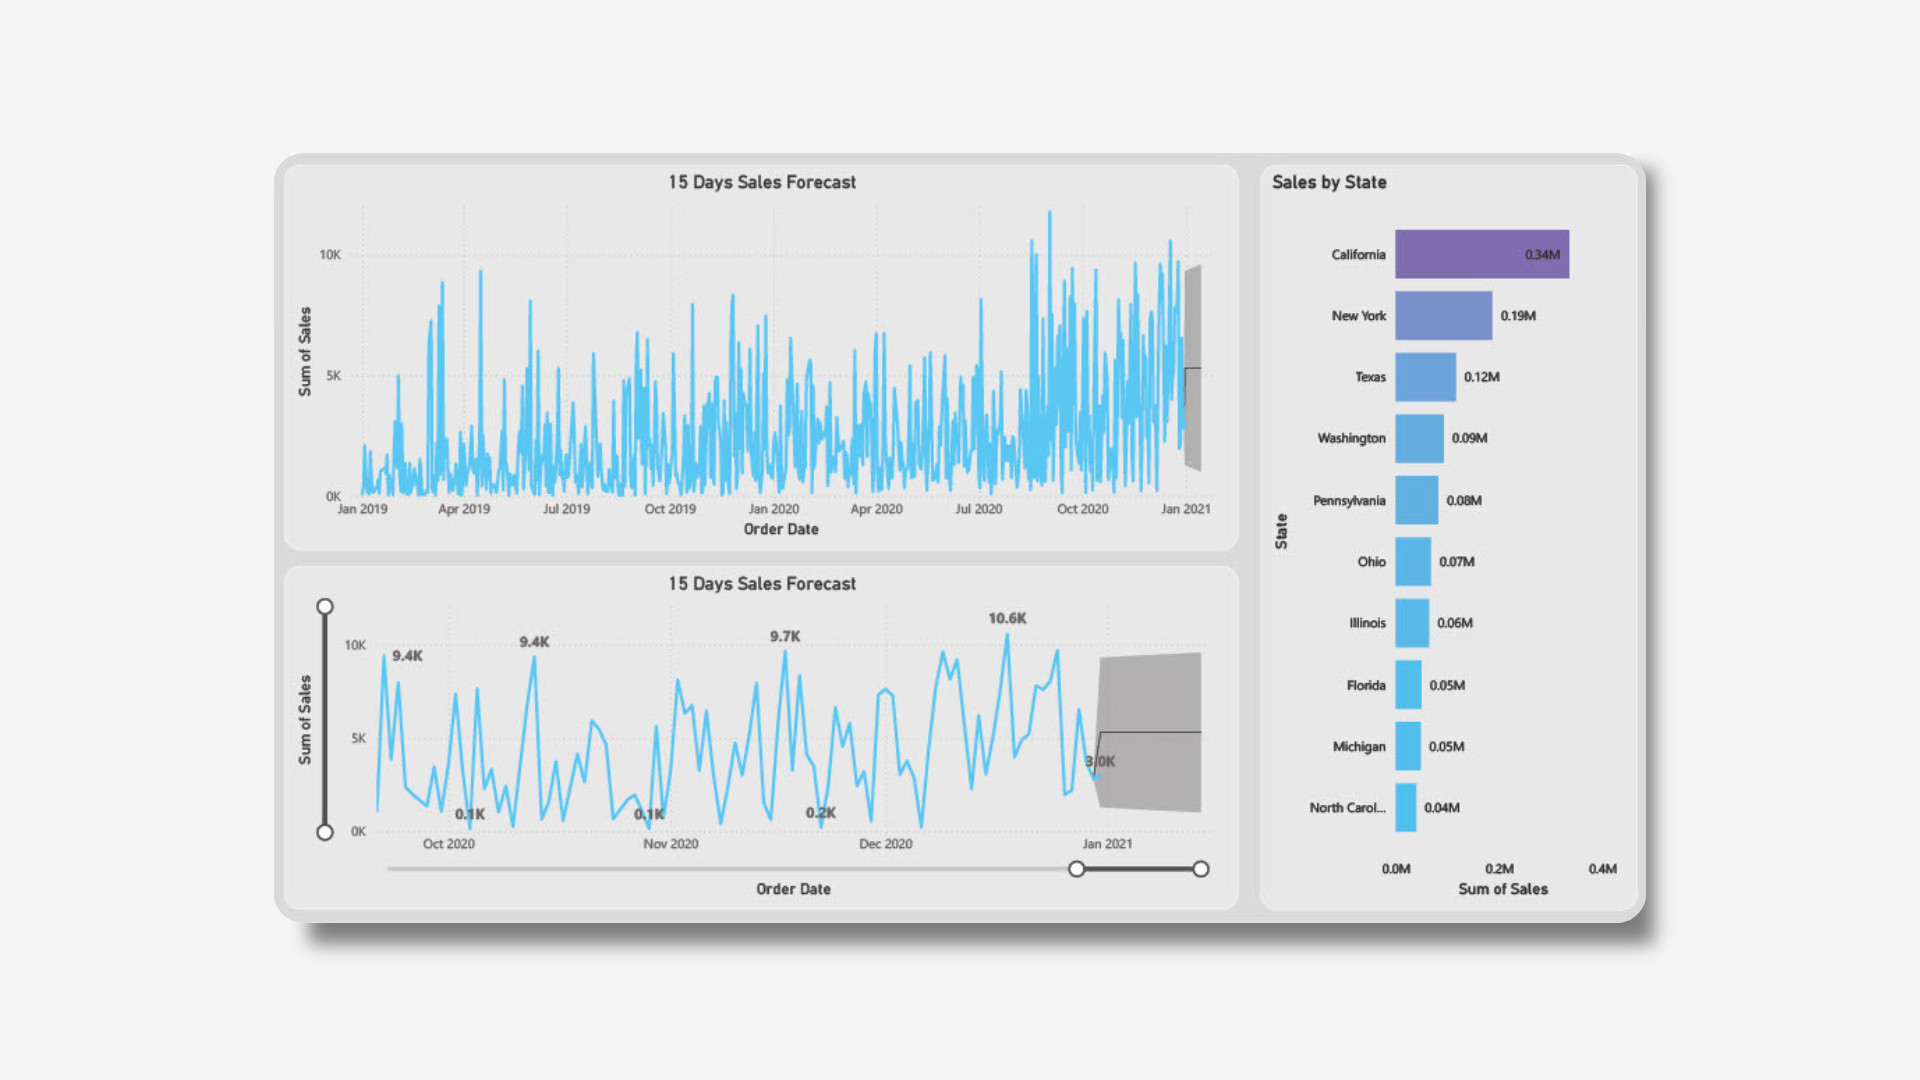

The page's visual inventory and layout, read from the dashboard file:
{"tool":"powerbi","page":{"name":"Page 2","canvas":[1280,720],"ordinal":1},"visuals":[{"type":"lineChart","title":"15 Days Sales Forecast","fields":{"Y":["Sum(SuperStore_Sales_Dataset.Sales)"],"Category":["SuperStore_Sales_Dataset.Order Date"]},"box":[11,12.3,887.8,359.5],"z":0},{"type":"lineChart","title":"15 Days Sales Forecast","fields":{"Y":["Sum(SuperStore_Sales_Dataset.Sales)"],"Category":["SuperStore_Sales_Dataset.Order Date"]},"box":[11,387,887.8,321.1],"z":1000},{"type":"clusteredBarChart","title":"Sales by State","fields":{"Y":["Sum(SuperStore_Sales_Dataset.Sales)"],"Category":["SuperStore_Sales_Dataset.State"]},"box":[919.4,12.3,351.3,695.7],"z":2000}]}

Visuals, with their boxes in screenshot pixels (x1, y1, x2, y2), scaled from the page's 1280x720 canvas onto the 1920x1080 screenshot:
"15 Days Sales Forecast" lineChart: bbox=[16, 18, 1348, 558]
"15 Days Sales Forecast" lineChart: bbox=[16, 580, 1348, 1062]
"Sales by State" clusteredBarChart: bbox=[1379, 18, 1906, 1062]
